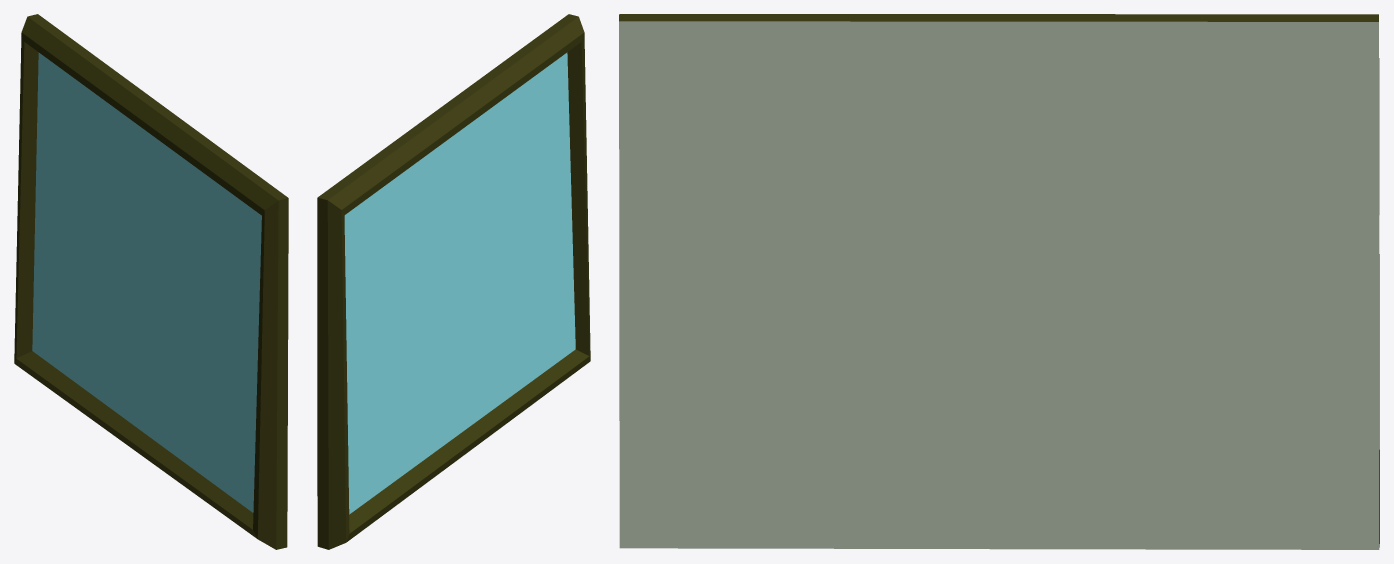
The model's file is Building_Window_Small.fbx.
3 renders of one model, left to right at view 1: azimuth 30°, elevation 25°; view 2: azimuth 150°, elevation 25°; view 3: azimuth 270°, elevation 25°, orthographic. The views are drawn at different scales.
Visible parts, largest first — view 1: Building_Window_Small; view 2: Building_Window_Small; view 3: Building_Window_Small.
Boxes of the visible parts, x1=… form: Building_Window_Small: x1=14, y1=14, x2=288, y2=549; Building_Window_Small: x1=317, y1=14, x2=590, y2=549; Building_Window_Small: x1=619, y1=14, x2=1379, y2=549.
Bounding box in the file's own units: 92.19 × 1070 × 1395.
